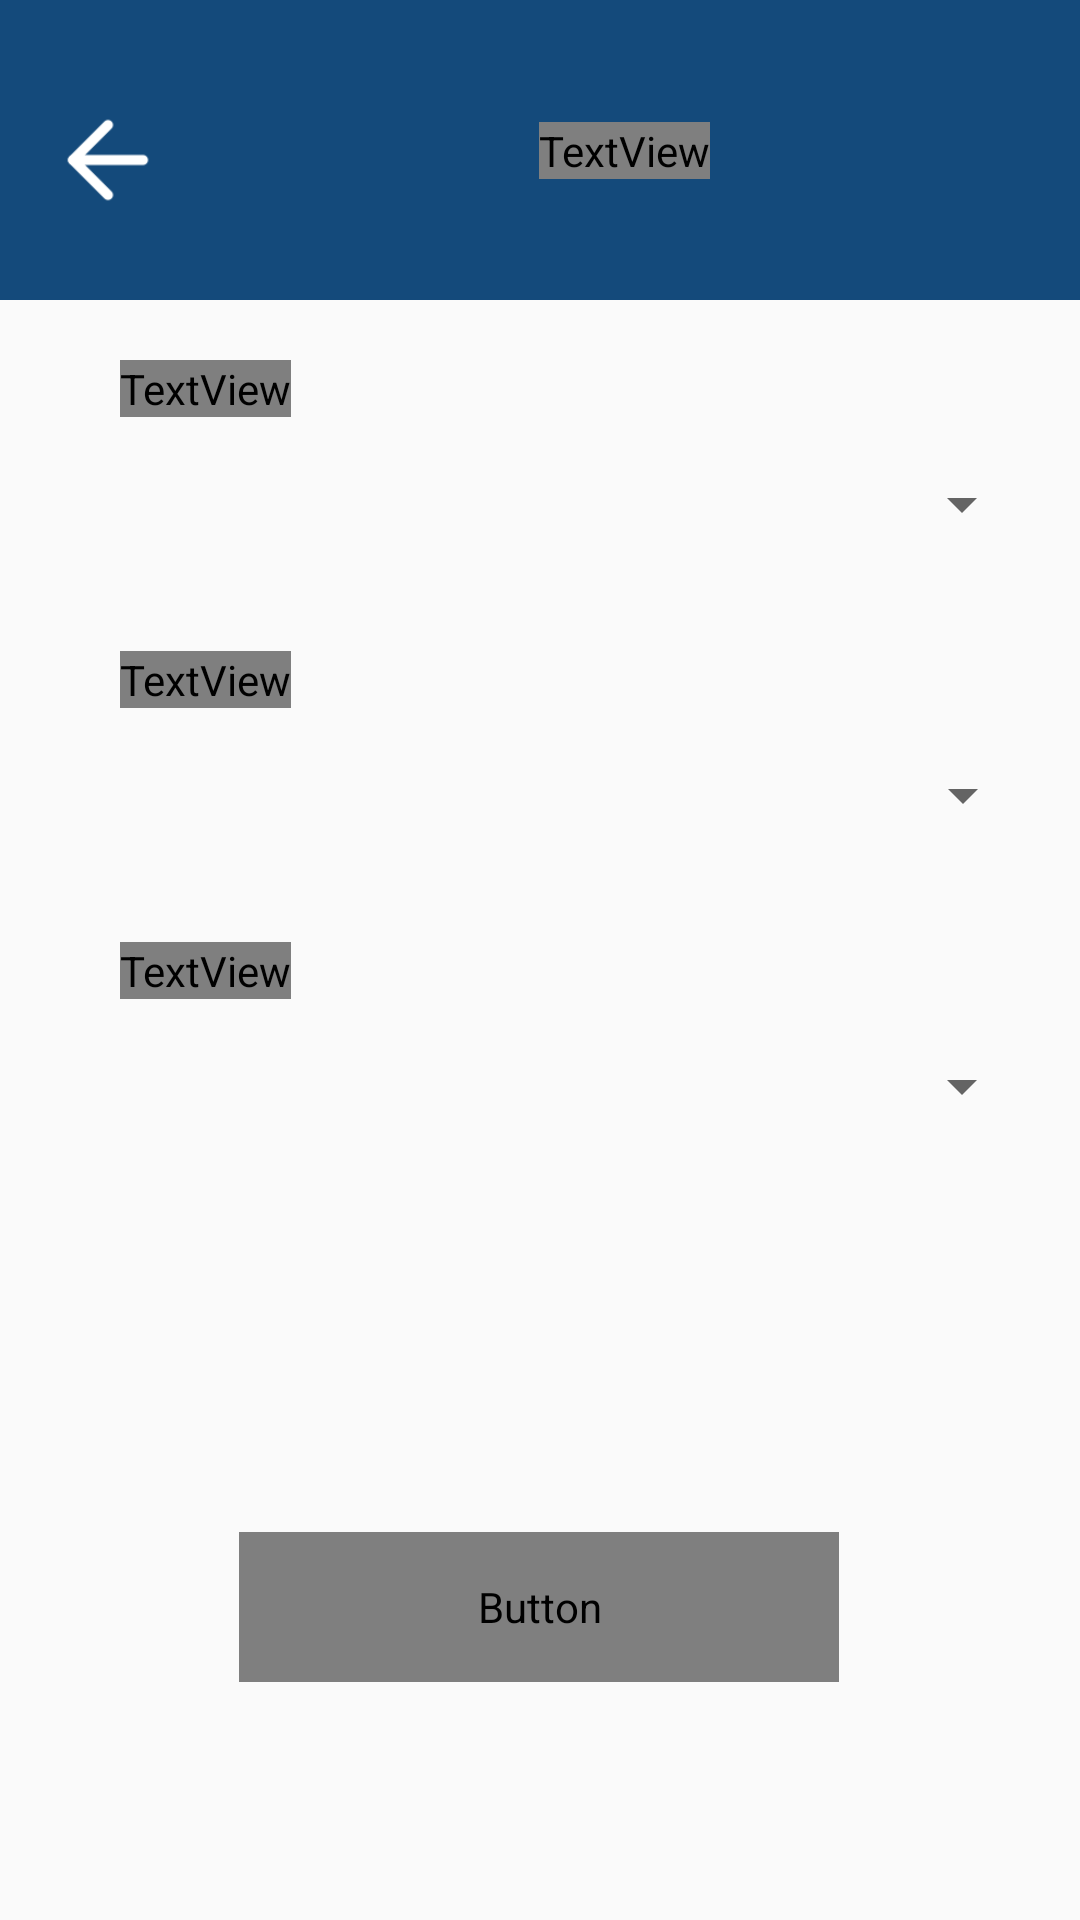

Screen size 1080x1920. Icon name, then its center in pixels as (x,y):
Voltar: (108,160)
